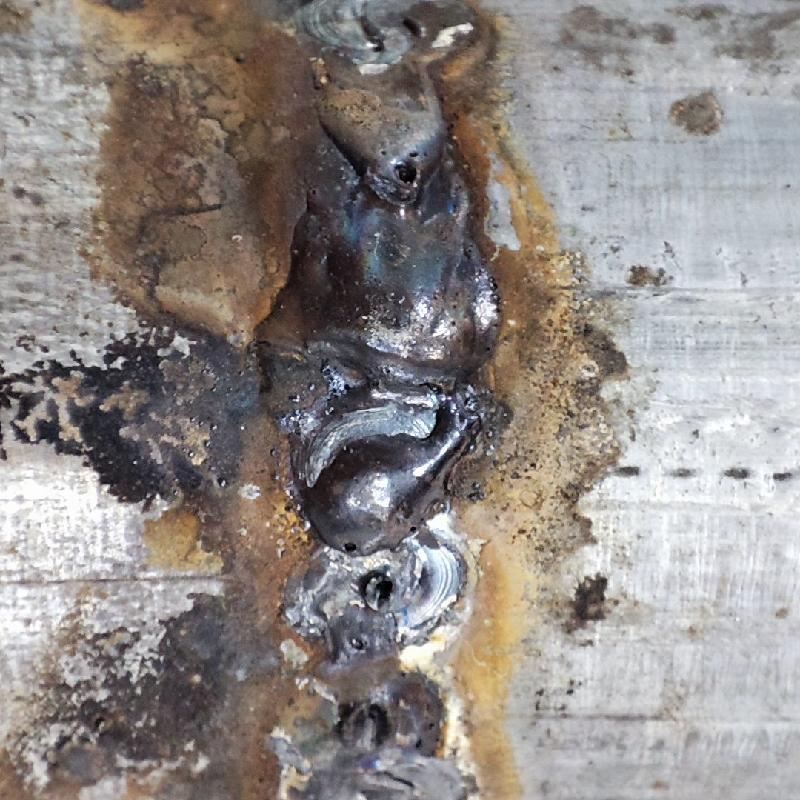Not_fully_soldered: (271, 550, 488, 795), (290, 1, 478, 212)
Surface_pores: (373, 138, 433, 197), (327, 524, 381, 567)
Weld: (269, 213, 497, 561)
